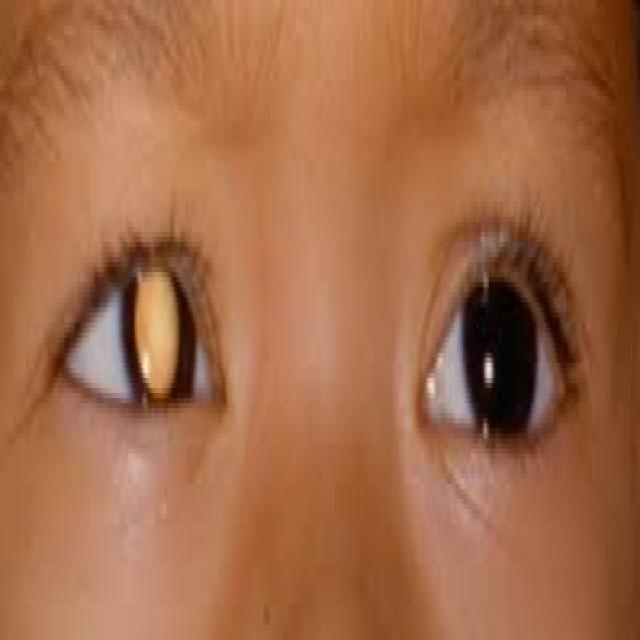reflexo-alterado: (105, 245, 211, 428)
reflexo-normal: (436, 237, 550, 450)
